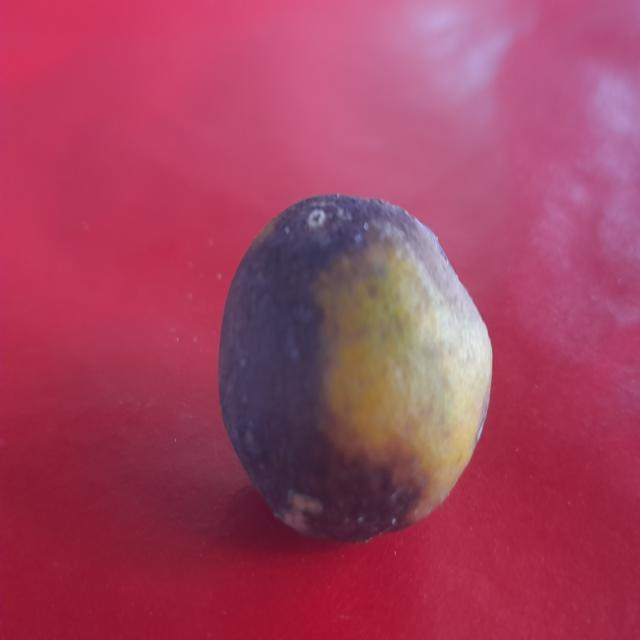black spot: (207, 187, 503, 543)
